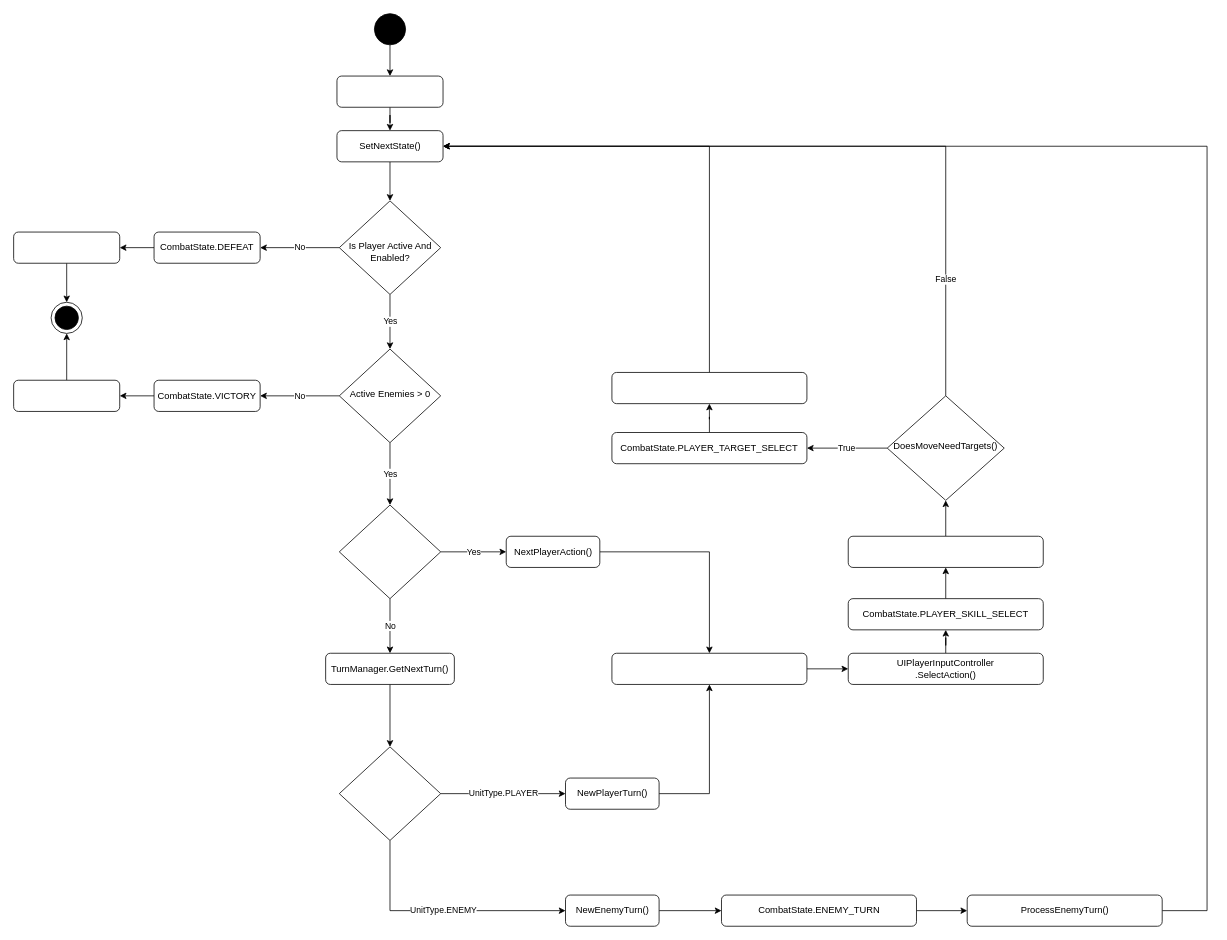
Some shapes in this 1227 by 940 pixel diagram are drawn without their labels. The centre of each missing label's shape, as x and y in pixels:
CombatState.PLAYER_ACTION_SELECT: [709,668]
CombatState.START: [389,91]
DefeatSequence(): [66,247]
Next Unit To Act: [390,793]
OnSkillSelect(): [945,551]
OnTargetSelect(): [709,388]
Remaining Player Actions > 0: [390,551]
VictorySequence(): [66,395]
